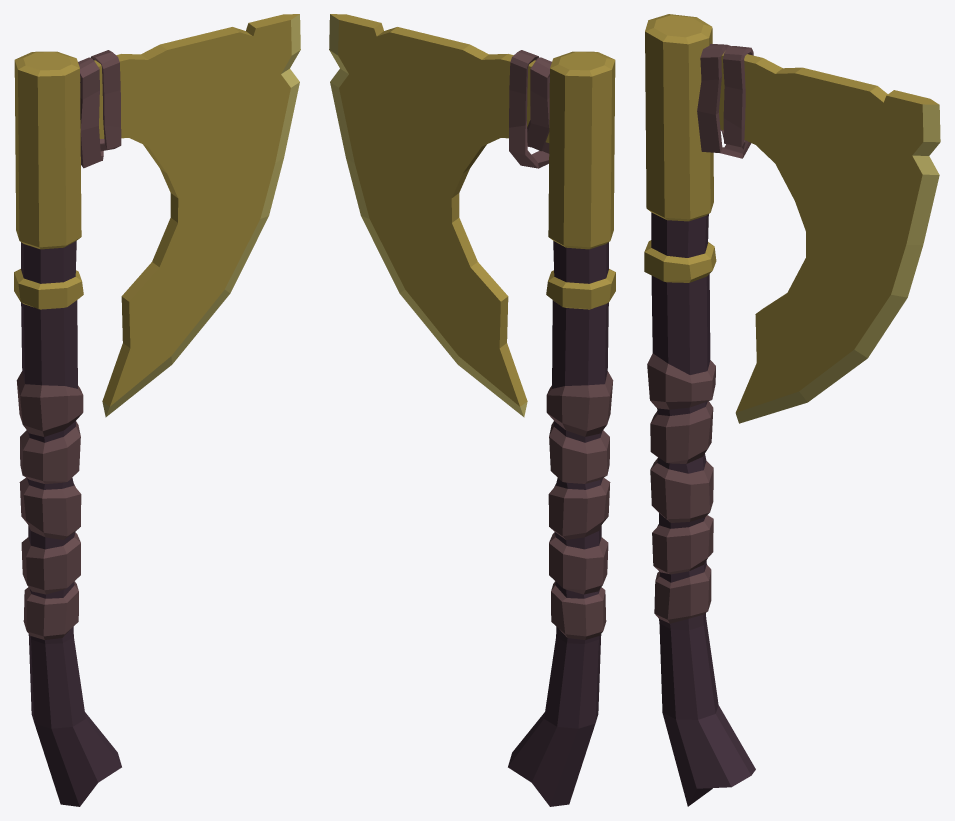
File: quaternius-rpg-items-axe-small-golden.glb
3 renders of one model, left to right at view 1: azimuth 30°, elevation 25°; view 2: azimuth 150°, elevation 25°; view 3: azimuth 330°, elevation 25°, orthographic. The views are drawn at different scales.
Visible parts, largest first — view 1: Axe_small_Golden; view 2: Axe_small_Golden; view 3: Axe_small_Golden.
Part boxes in pixels (left/top/right/bottom): Axe_small_Golden: left=14, top=14, right=300, bottom=806; Axe_small_Golden: left=329, top=14, right=615, bottom=806; Axe_small_Golden: left=644, top=14, right=940, bottom=806.
Size of the model in its own units: 0.6236 by 1.57 by 0.1322.
